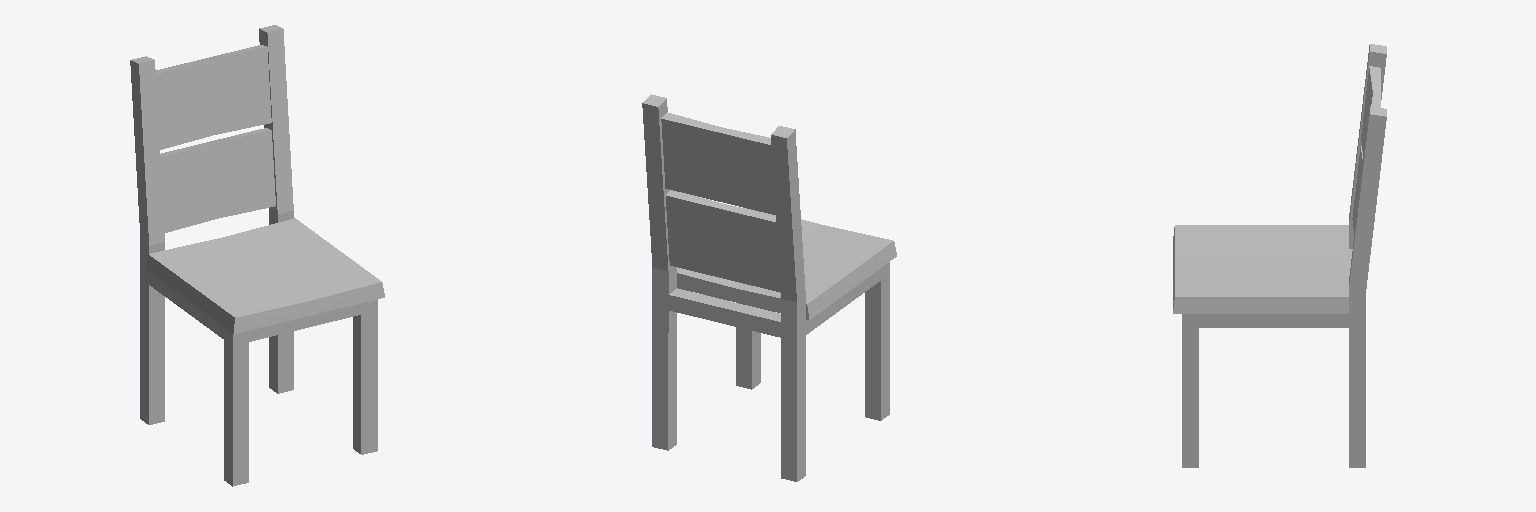
Rendered from Wooden_Chair.obj.
3 renders of one model, left to right at view 1: azimuth 30°, elevation 25°; view 2: azimuth 150°, elevation 25°; view 3: azimuth 270°, elevation 25°, orthographic.
Visible parts, largest first — view 1: Wooden_Chair_Chair; view 2: Wooden_Chair_Chair; view 3: Wooden_Chair_Chair.
Boxes of the visible parts, box(x1,y1,x2,y2) form: Wooden_Chair_Chair: box(130, 25, 384, 486); Wooden_Chair_Chair: box(642, 94, 896, 481); Wooden_Chair_Chair: box(1173, 44, 1386, 467).
Size of the model in its own units: 0.45 by 1 by 0.55.